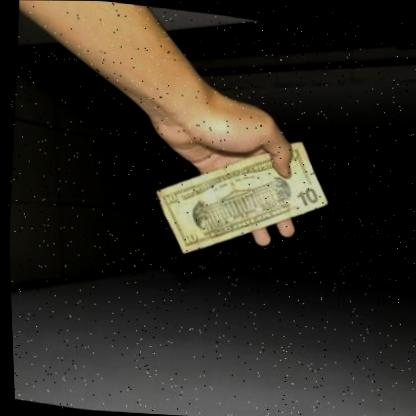dollar_back: (142, 115, 336, 274)
